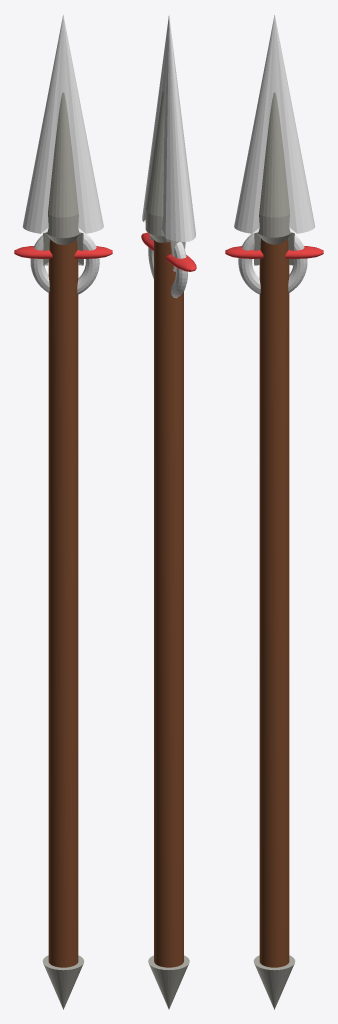
Rendered from Spear 2.0 .fbx.
3 views of the same model, side by side, from view 1: azimuth 90°, elevation 25°; view 2: azimuth 210°, elevation 25°; view 3: azimuth 270°, elevation 25° (orthographic).
Visible parts, largest first — view 1: Cylinder, Cone.002, Cone.003, Torus, Cylinder.001, Cone, Mball; view 2: Cylinder, Cone.002, Cone.003, Cone, Torus, Cylinder.001, Mball; view 3: Cylinder, Cone.002, Cone.003, Torus, Cylinder.001, Cone, Mball.
Part boxes in pixels (x1,y1,x2,y2): Cylinder: (48,239,78,967); Cone.002: (22,15,103,233); Cone.003: (48,92,78,217); Torus: (30,233,99,294); Cylinder.001: (43,213,83,265); Cone: (42,955,84,1009); Mball: (14,246,112,258); Cylinder: (154,240,183,967); Cone.002: (142,15,195,241); Cone.003: (145,91,164,216); Cone: (148,955,189,1009); Torus: (148,236,187,298); Cylinder.001: (145,209,185,271); Mball: (141,232,196,271); Cylinder: (259,238,289,967); Cone.002: (234,15,315,233); Cone.003: (259,92,289,217); Torus: (238,233,307,294); Cylinder.001: (254,213,294,265); Cone: (253,955,295,1009); Mball: (225,246,323,258).
Bounding box in the file's own units: 210 × 4717 × 423.
